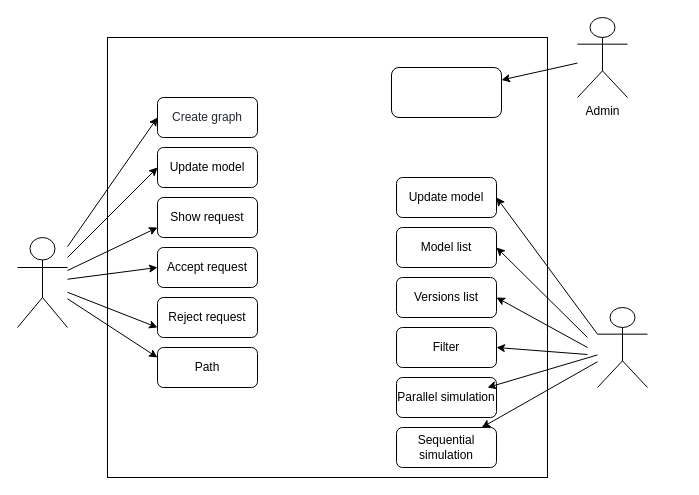
The diagram is 699 pixels wide and 495 high, and some of its shapes have lost their labels. The shapes that lost their labels are listed below. From the top down, each one's centre as x and y in pixels, then its label:
point (446, 92): User token recharge
point (42, 282): User
point (622, 347): Unauthentication User
